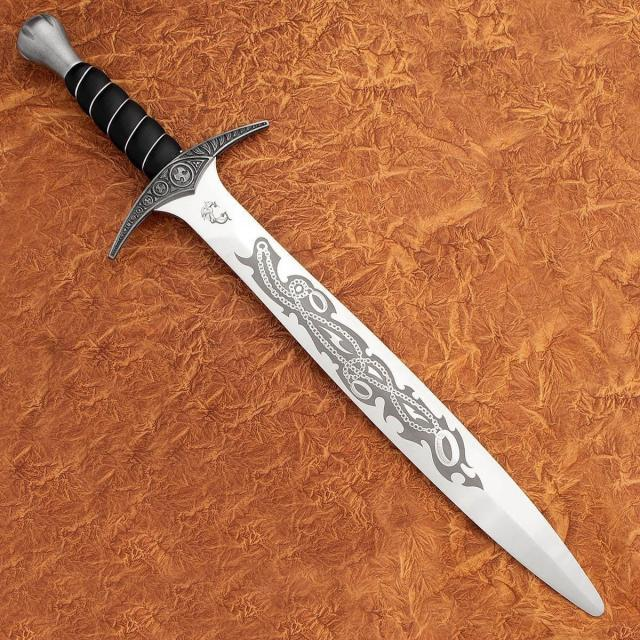short sword: (9, 9, 610, 620)
